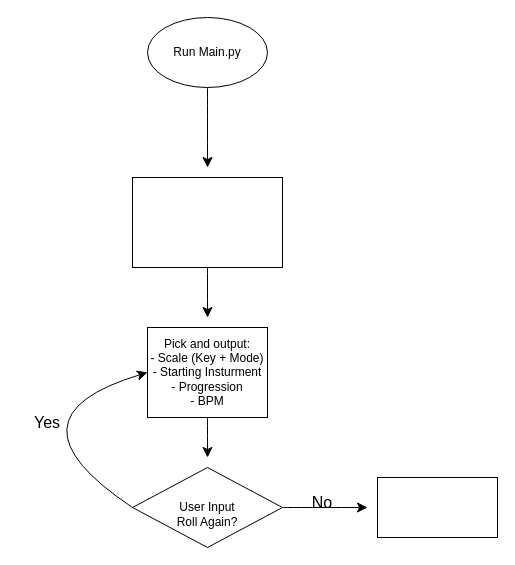
The diagram is 515 pixels wide and 565 high, and some of its shapes have lost their labels. The box of each missing label's shape, as (x1, y1, x2, y2) in pixels:
Exit: (376, 476, 498, 538)
Import Random module & define lists (Key, Instruments, Progression, Modes, etc.): (132, 176, 282, 268)
